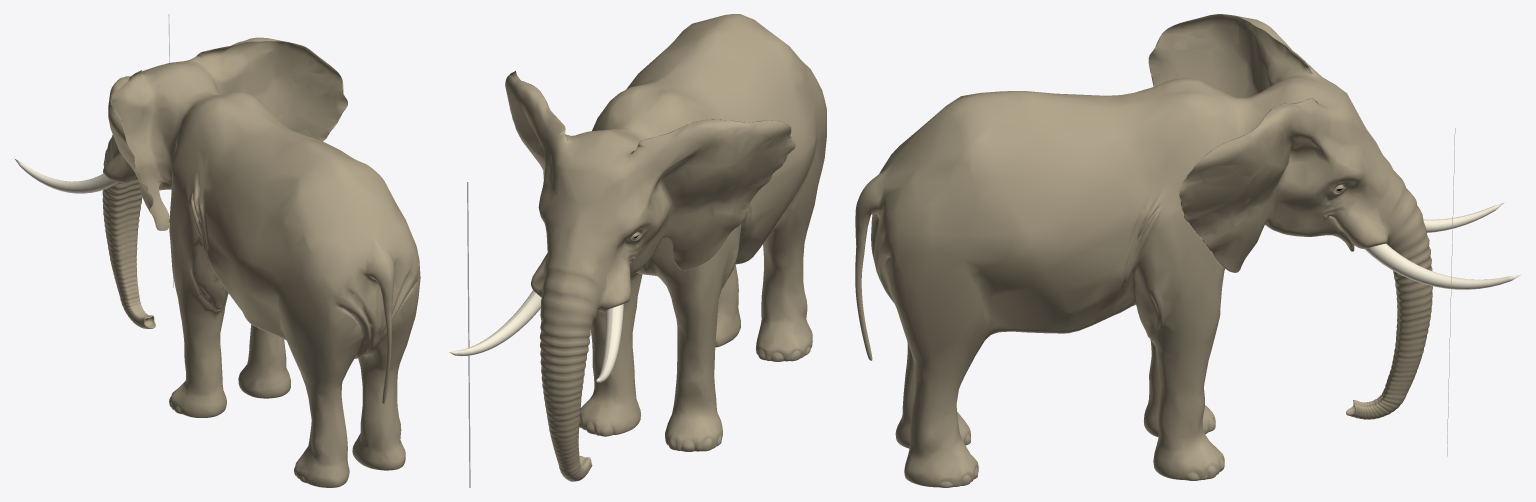
3 views of the same model, side by side, from view 1: azimuth 30°, elevation 25°; view 2: azimuth 150°, elevation 25°; view 3: azimuth 270°, elevation 25° (orthographic). The views are drawn at different scales.
Visible parts, largest first — view 1: Obj3d66-604642-1-200, Obj3d66-604642-2-287; view 2: Obj3d66-604642-1-200, Obj3d66-604642-3-338, Obj3d66-604642-2-287, Плоскость; view 3: Obj3d66-604642-1-200, Obj3d66-604642-3-338, Obj3d66-604642-2-287.
Boxes of the visible parts, x1,y1,x2,y2 form: Obj3d66-604642-1-200: (102,37,420,487); Obj3d66-604642-2-287: (15,159,118,193); Obj3d66-604642-1-200: (505,14,826,481); Obj3d66-604642-3-338: (449,290,541,356); Obj3d66-604642-2-287: (596,304,623,382); Плоскость: (467,182,470,487); Obj3d66-604642-1-200: (855,14,1432,487); Obj3d66-604642-3-338: (1364,243,1520,289); Obj3d66-604642-2-287: (1423,202,1504,232).
Size of the model in its own units: 27.96 by 36.8 by 58.59.
